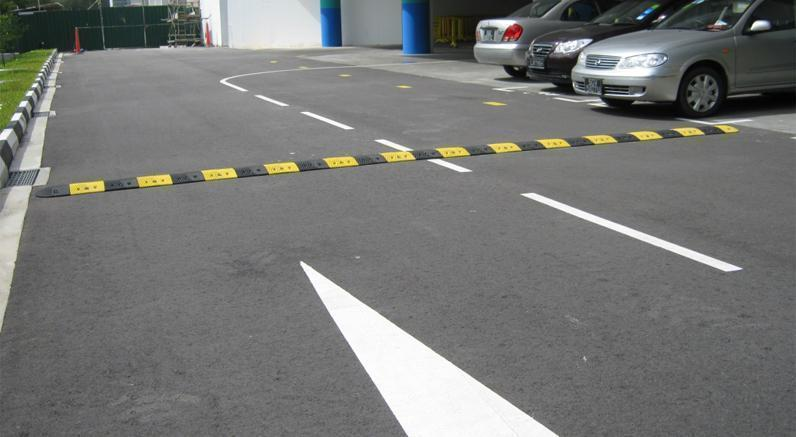speedbreaker: (35, 118, 736, 200)
